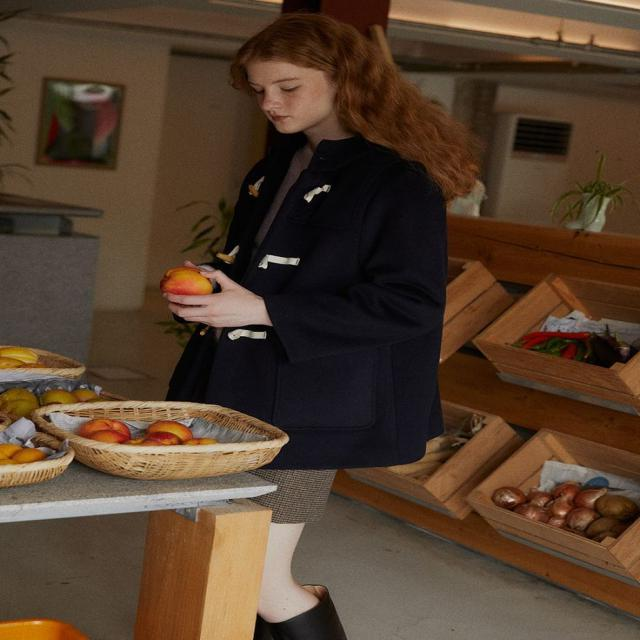coat: (158, 134, 454, 471)
skirt: (225, 459, 337, 526)
